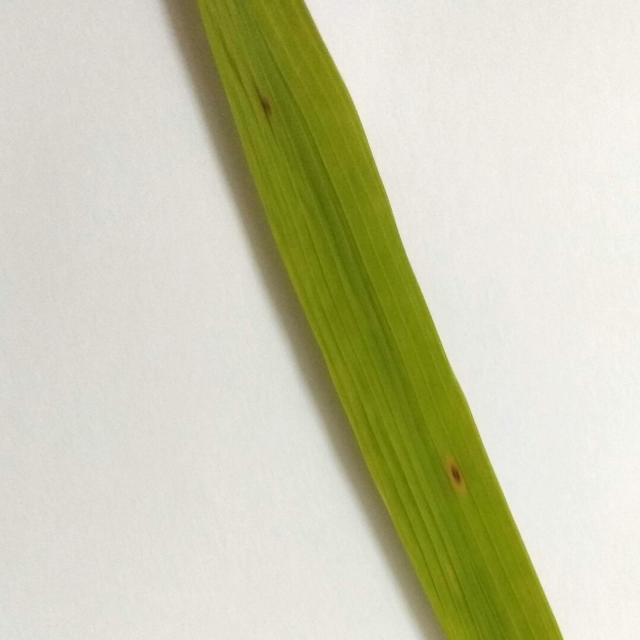Brown spot: (244, 70, 294, 132), (437, 440, 476, 500)
